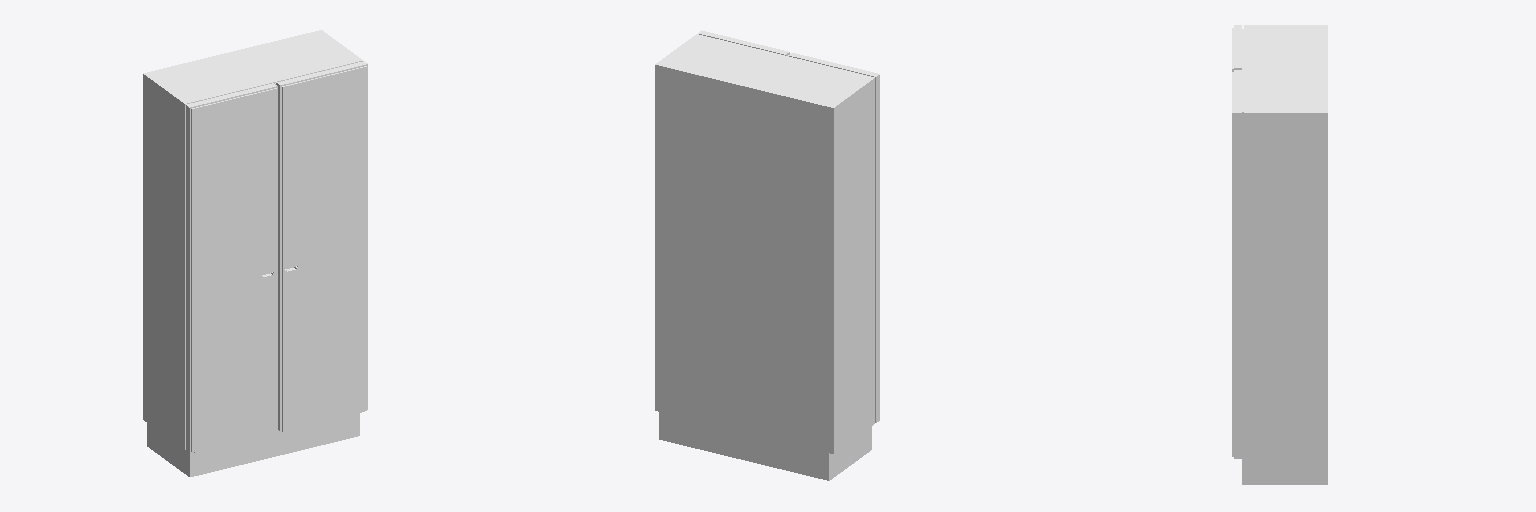
Rendered from GuardaRoupas.obj.
3 renders of one model, left to right at view 1: azimuth 30°, elevation 25°; view 2: azimuth 150°, elevation 25°; view 3: azimuth 270°, elevation 25°, orthographic.
Visible parts, largest first — view 1: object 1; view 2: object 1; view 3: object 1.
Part boxes in pixels (left/top/right/bottom): object 1: left=143, top=30, right=367, bottom=476; object 1: left=655, top=30, right=879, bottom=480; object 1: left=1232, top=25, right=1327, bottom=484.
Bounding box in the file's own units: 12.8 × 25.6 × 5.9.